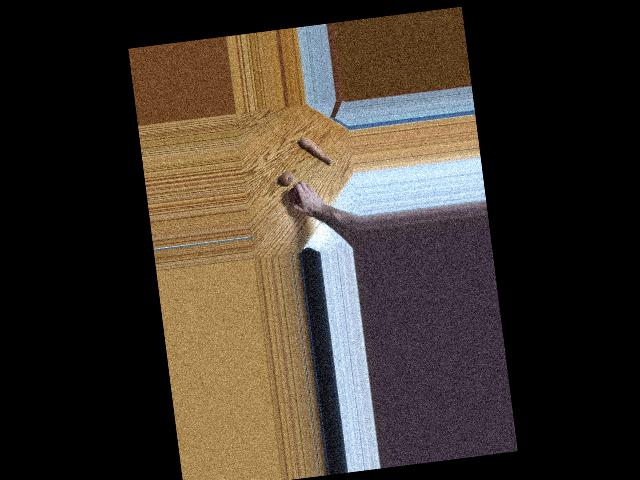onion: (288, 187, 302, 203)
